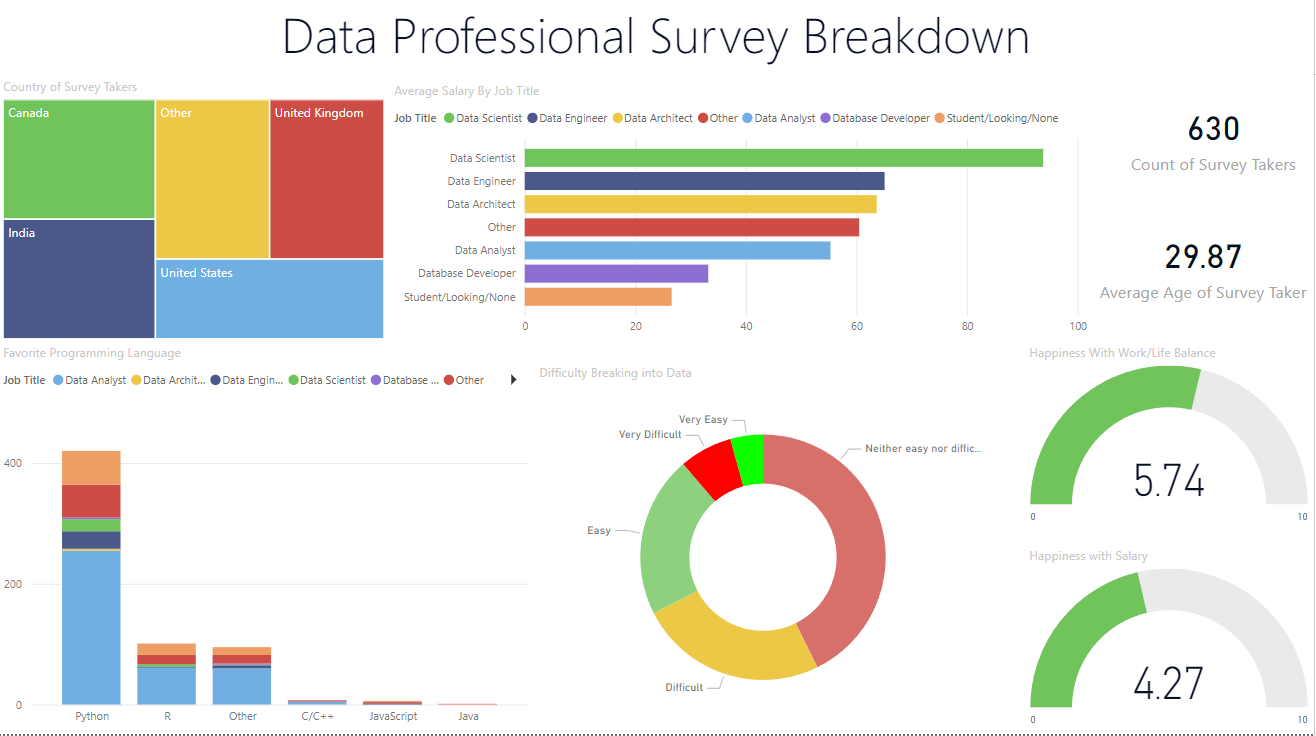

The dashboard page shown, as its layout file describes it:
{"tool":"powerbi","page":{"name":"Page 1","canvas":[1280,720],"ordinal":0},"visuals":[{"type":"textbox","box":[0,0,1280,81.7],"z":0},{"type":"card","fields":{"Values":["Count(Data Professional Survey.Unique ID)"]},"box":[1084.5,85.6,195.5,106],"z":1000},{"type":"card","fields":{"Values":["Avg(Data Professional Survey.Q10 - Current Age)"]},"box":[1064.1,207.2,215.9,111.9],"z":2000},{"type":"barChart","title":"Average Salary By Job Title","fields":{"Category":["Data Professional Survey.Q1 - Which Title Best Fits your Current Role?.1"],"Y":["Avg(Data Professional Survey.Average Salary)"],"Series":["Data Professional Survey.Q1 - Which Title Best Fits your Current Role?.1"]},"box":[380.3,85.6,683.8,254.8],"z":3000},{"type":"columnChart","title":"Favorite Programming Language","fields":{"Category":["Data Professional Survey.Q5 - Favorite Programming Language.1"],"Y":["CountNonNull(Data Professional Survey.Unique ID)"],"Series":["Data Professional Survey.Q1 - Which Title Best Fits your Current Role?.1"]},"box":[0,340.4,521.3,379.3],"z":4000},{"type":"treemap","title":"Country of Survey Takers","fields":{"Group":["Data Professional Survey.Q11 - Which Country do you live in?.1"],"Values":["Count(Data Professional Survey.Q11 - Which Country do you live in?.1)"]},"box":[0,81.7,380.3,258.7],"z":5000},{"type":"gauge","title":"Happiness With Work/Life Balance","fields":{"Y":["Avg(Data Professional Survey.Q6 - How Happy are you in your Current Position with the following? (Work/Life Balance))"],"MinValue":["Min(Data Professional Survey.Q6 - How Happy are you in your Current Position with the following? (Work/Life Balance))"],"MaxValue":["Max(Data Professional Survey.Q6 - How Happy are you in your Current Position with the following? (Work/Life Balance))1"]},"box":[997.9,340.4,282.1,181.9],"z":6000},{"type":"gauge","title":"Happiness with Salary","fields":{"Y":["Avg(Data Professional Survey.Q6 - How Happy are you in your Current Position with the following? (Salary))"],"MaxValue":["Max(Data Professional Survey.Q6 - How Happy are you in your Current Position with the following? (Salary))1"],"MinValue":["Min(Data Professional Survey.Q6 - How Happy are you in your Current Position with the following? (Salary))"]},"box":[997.9,537.9,282.1,181.9],"z":7000},{"type":"donutChart","title":"Difficulty Breaking into Data","fields":{"Category":["Data Professional Survey.Q7 - How difficult was it for you to break into Data?"],"Y":["CountNonNull(Data Professional Survey.Q7 - How difficult was it for you to break into Data?)"]},"box":[521.3,359.9,445.5,359.9],"z":8000}]}

Visuals, with their boxes in screenshot pixels (x1, y1, x2, y2), scaled from the page's 1280x720 canvas onto the 1316x736 screenshot:
textbox: <region>0, 0, 1315, 84</region>
card - Count(Data Professional Survey.Unique ID): <region>1115, 88, 1315, 196</region>
card - Avg(Data Professional Survey.Q10 - Current Age): <region>1094, 212, 1315, 326</region>
"Average Salary By Job Title" barChart: <region>391, 88, 1094, 348</region>
"Favorite Programming Language" columnChart: <region>0, 348, 536, 735</region>
"Country of Survey Takers" treemap: <region>0, 84, 391, 348</region>
"Happiness With Work/Life Balance" gauge: <region>1026, 348, 1315, 534</region>
"Happiness with Salary" gauge: <region>1026, 550, 1315, 735</region>
"Difficulty Breaking into Data" donutChart: <region>536, 368, 994, 735</region>
